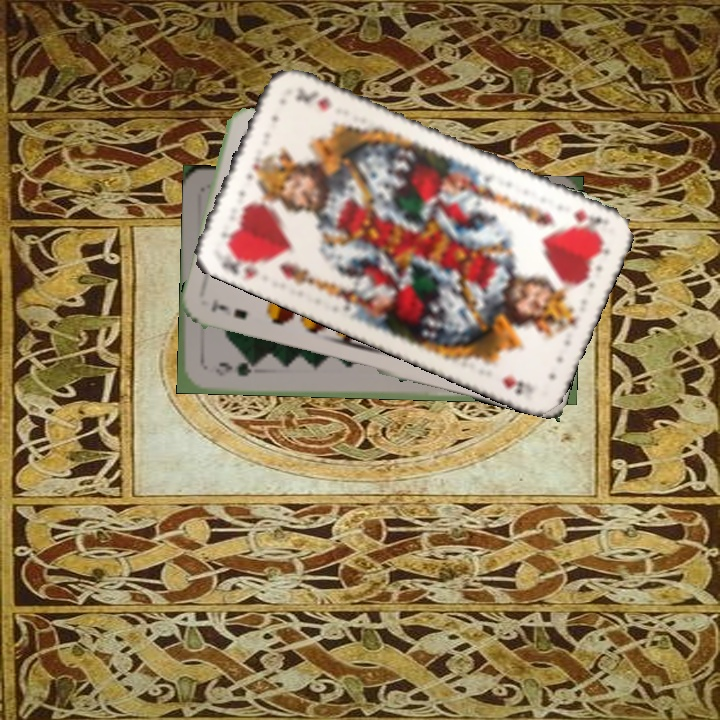E7: (207, 297, 250, 322)
G9: (211, 359, 261, 379)
HK: (217, 244, 268, 282), (570, 206, 611, 229)
